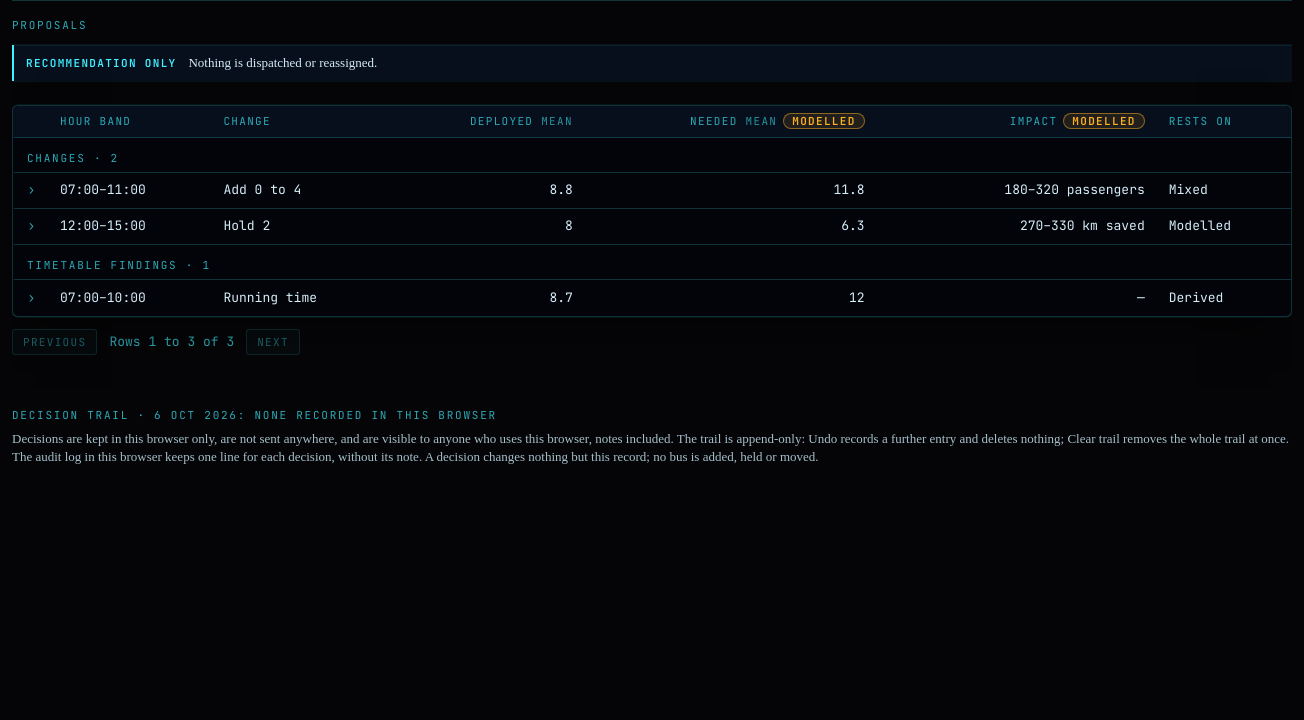
decisions on a proposal › offers Approve, Defer and Reject with a note in the opened row, none pressed
Click the row "› 07:00–11:00 Add 0 to 4 8.8 11.8 180–320 passengers Mixed".
click(652, 190)  # box [13,172,1291,208]
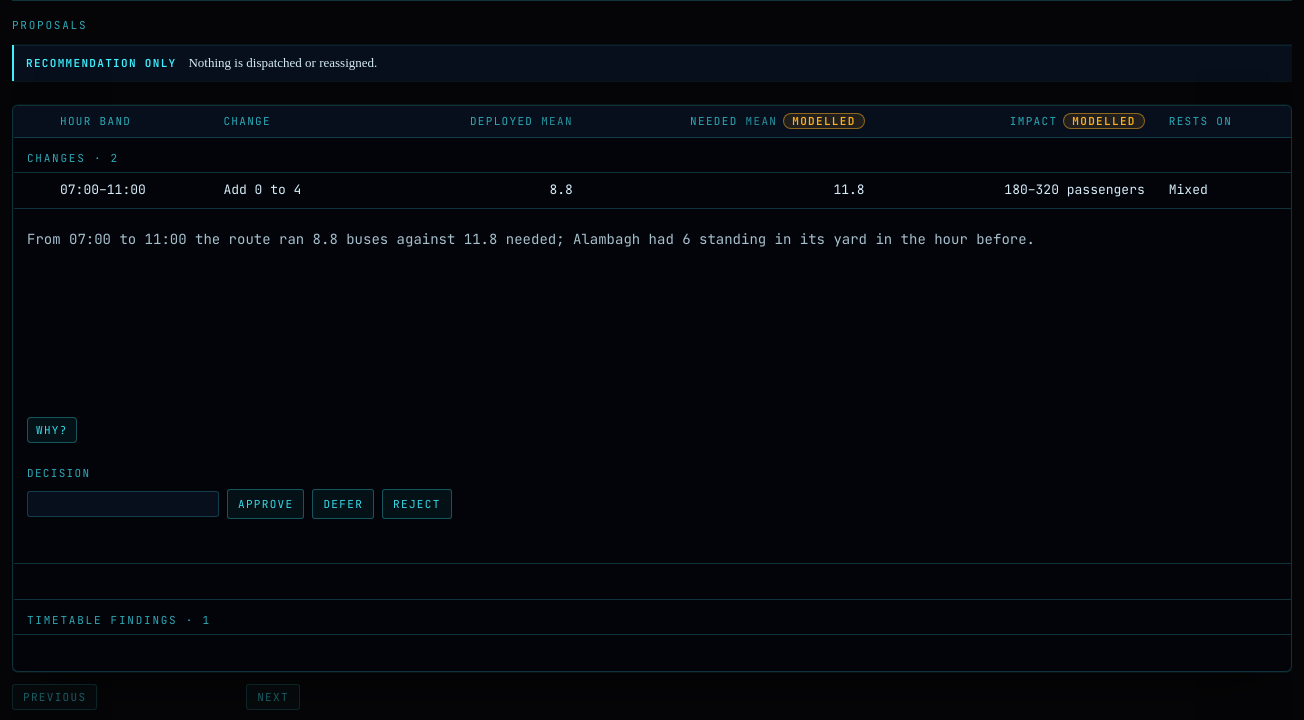
Result: the field with placeholder "Note (optional)" is shown at [27,490,219,516]
